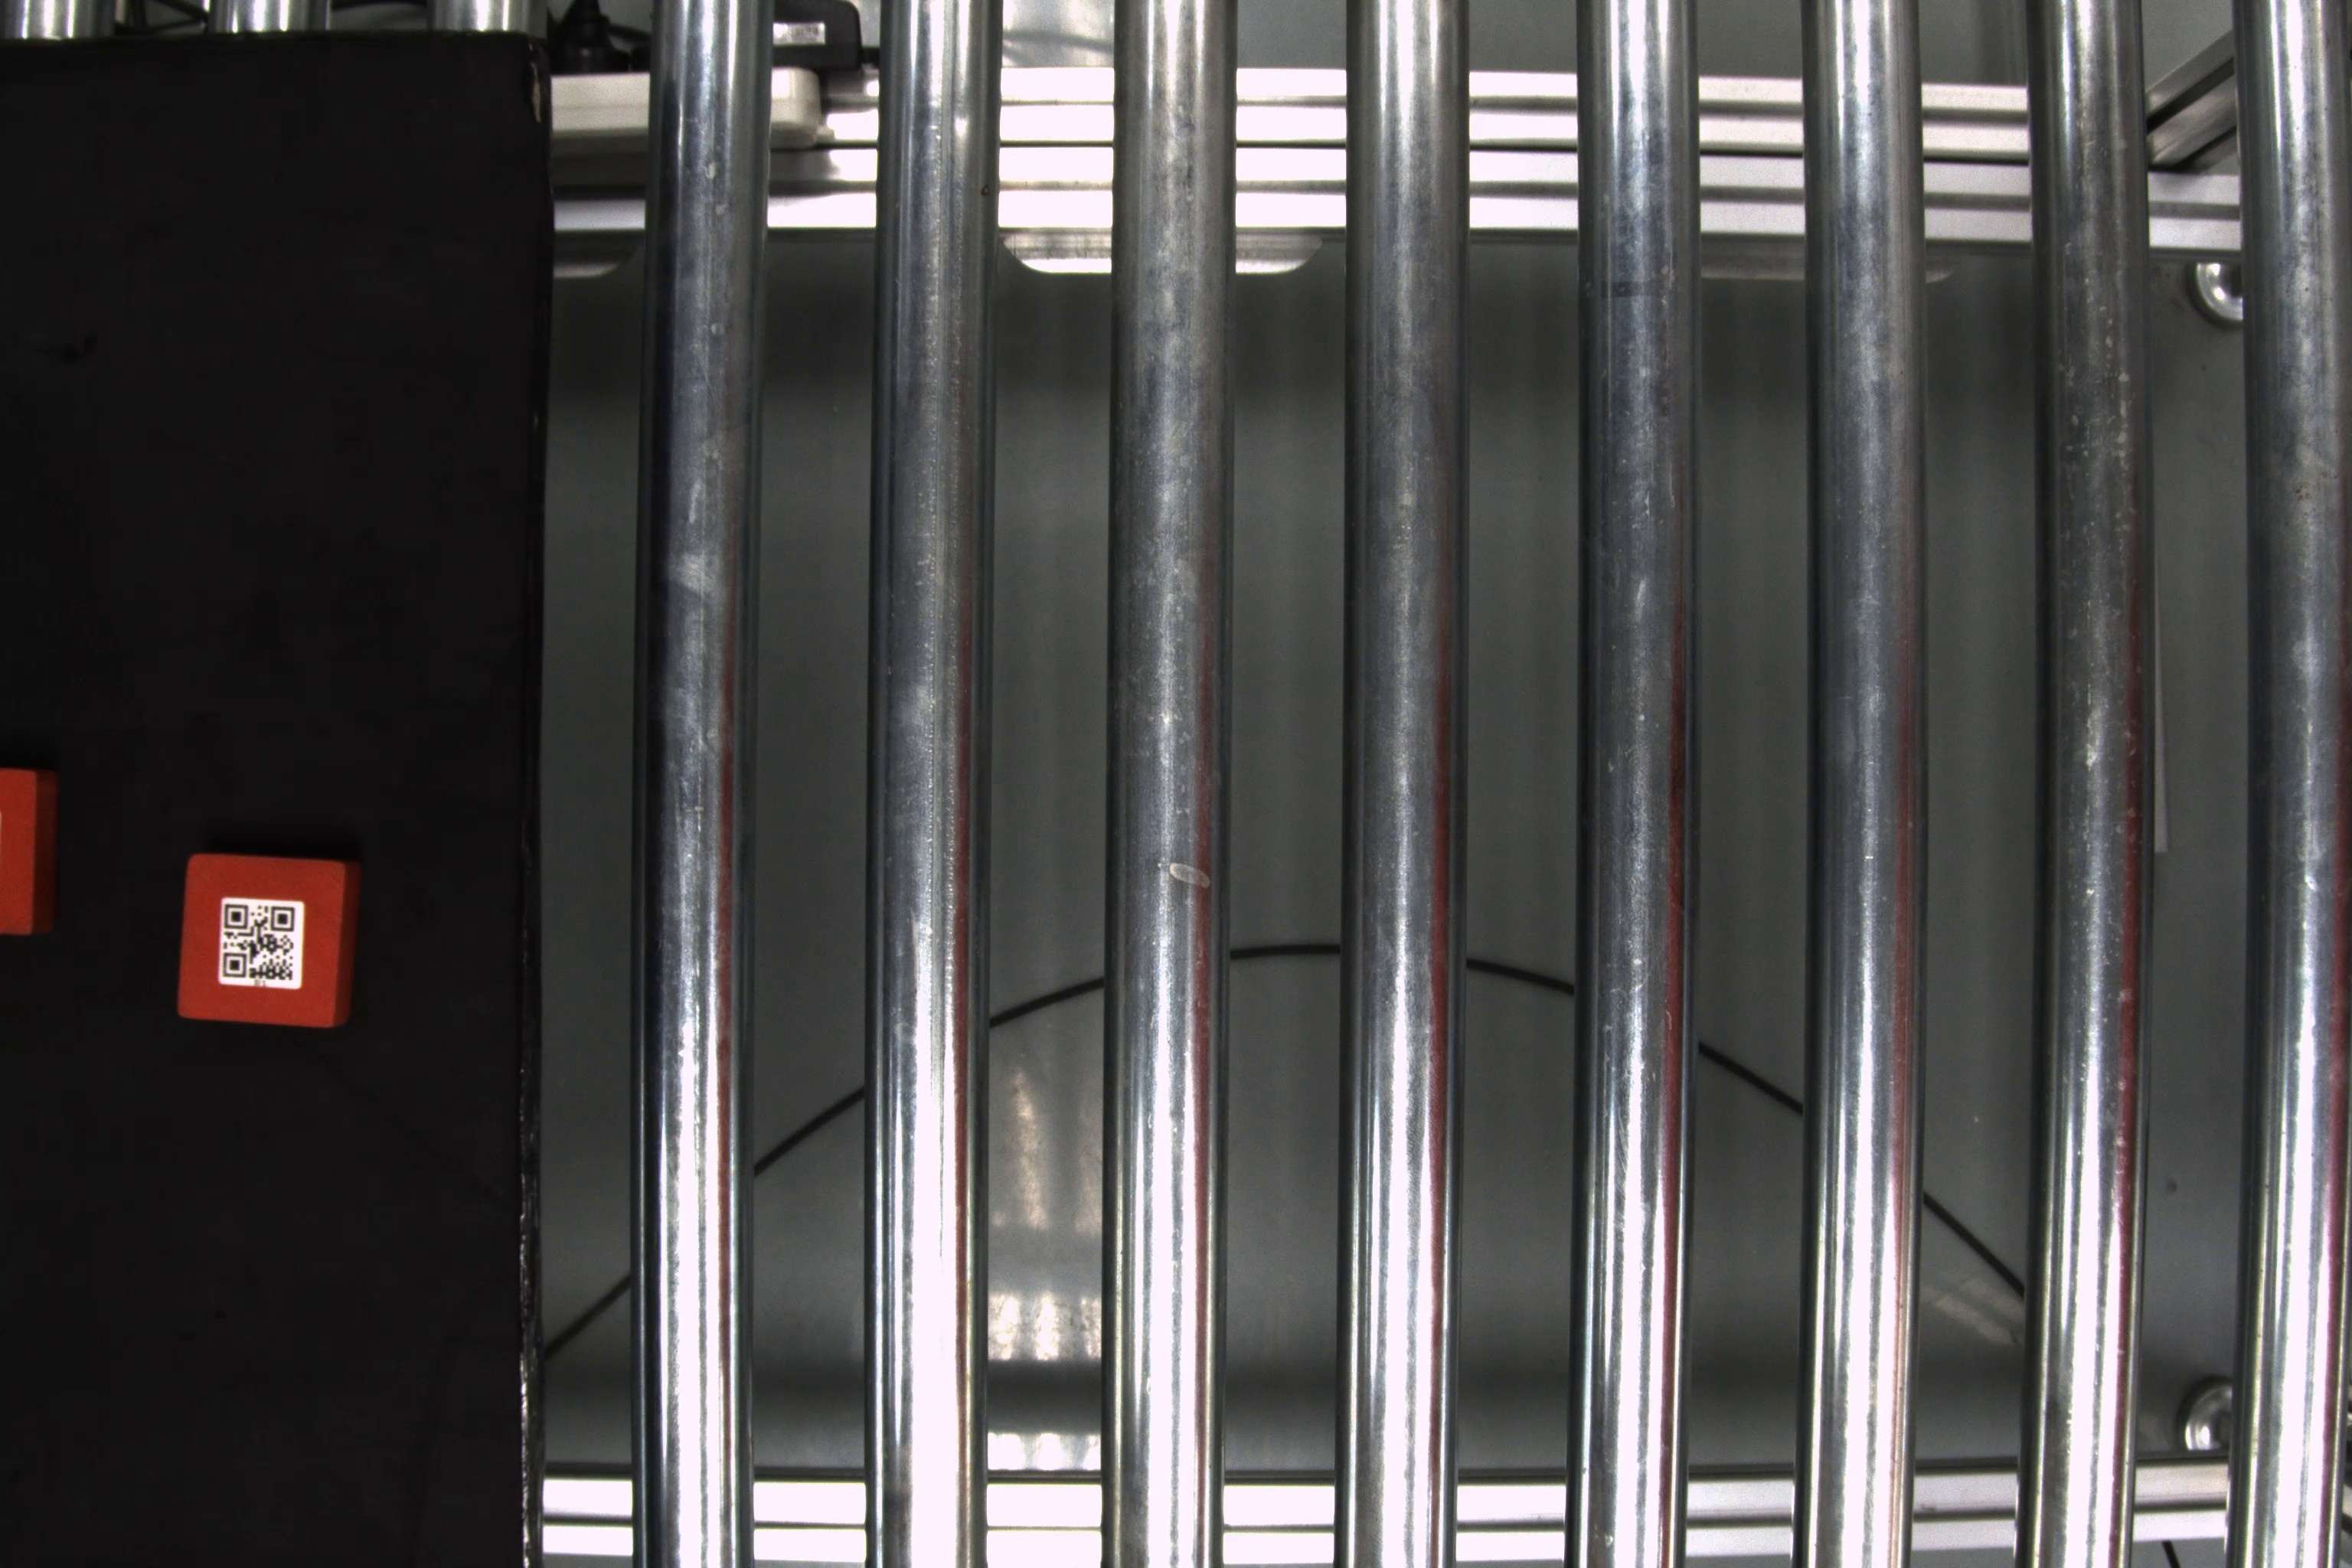wood: (177, 852, 362, 1032)
